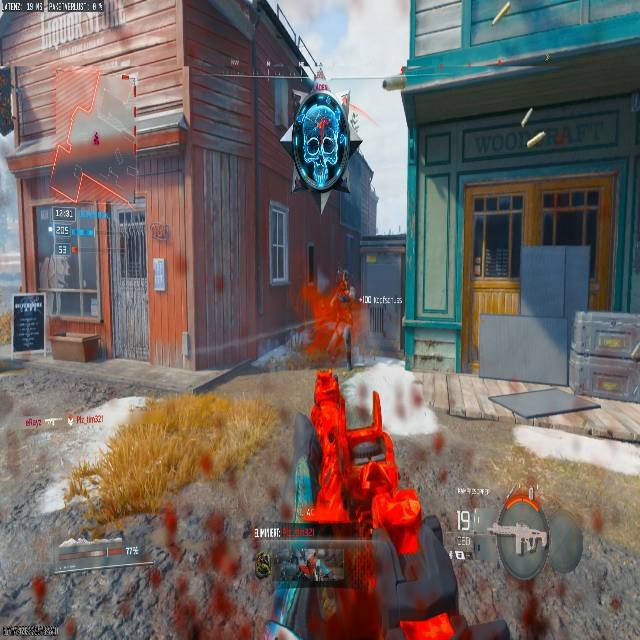head: (336, 272, 349, 291)
player: (293, 348, 466, 638), (280, 91, 367, 204), (313, 272, 363, 367), (329, 271, 358, 346)
